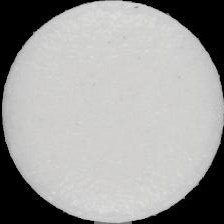10370-191: (0, 0, 224, 224)
